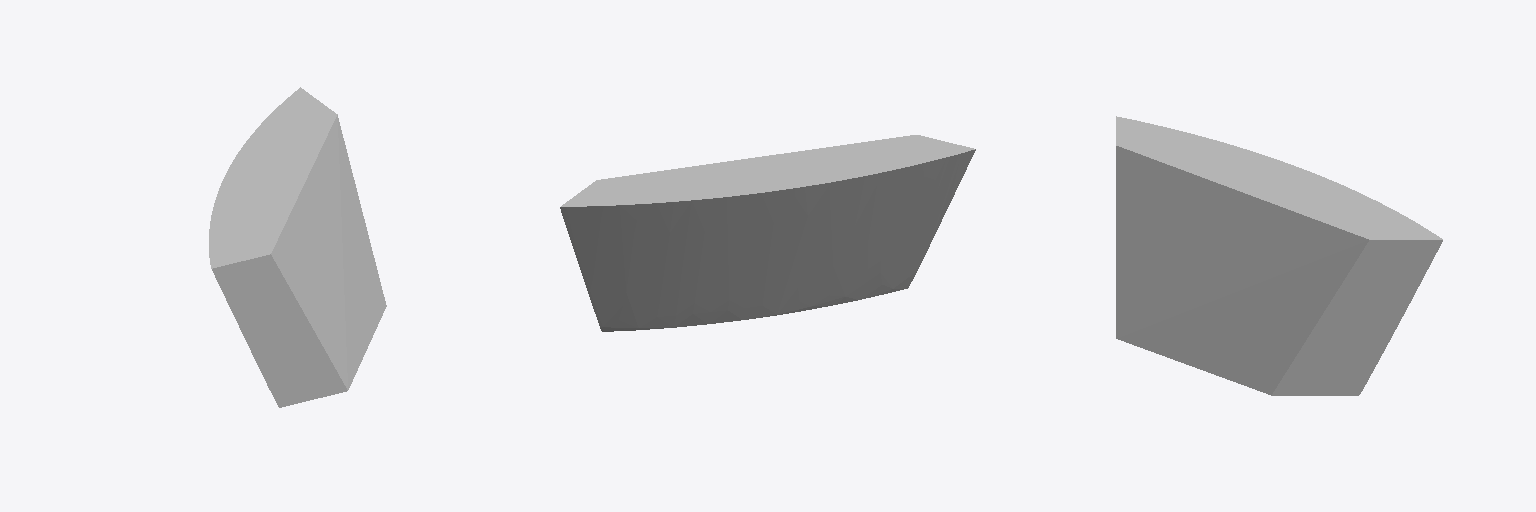
Rendered from skillet_collision_4.obj.
3 views of the same model, side by side, from view 1: azimuth 30°, elevation 25°; view 2: azimuth 150°, elevation 25°; view 3: azimuth 270°, elevation 25° (orthographic).
Bounding box in the file's own units: 0.0372 × 0.0219 × 0.0417.